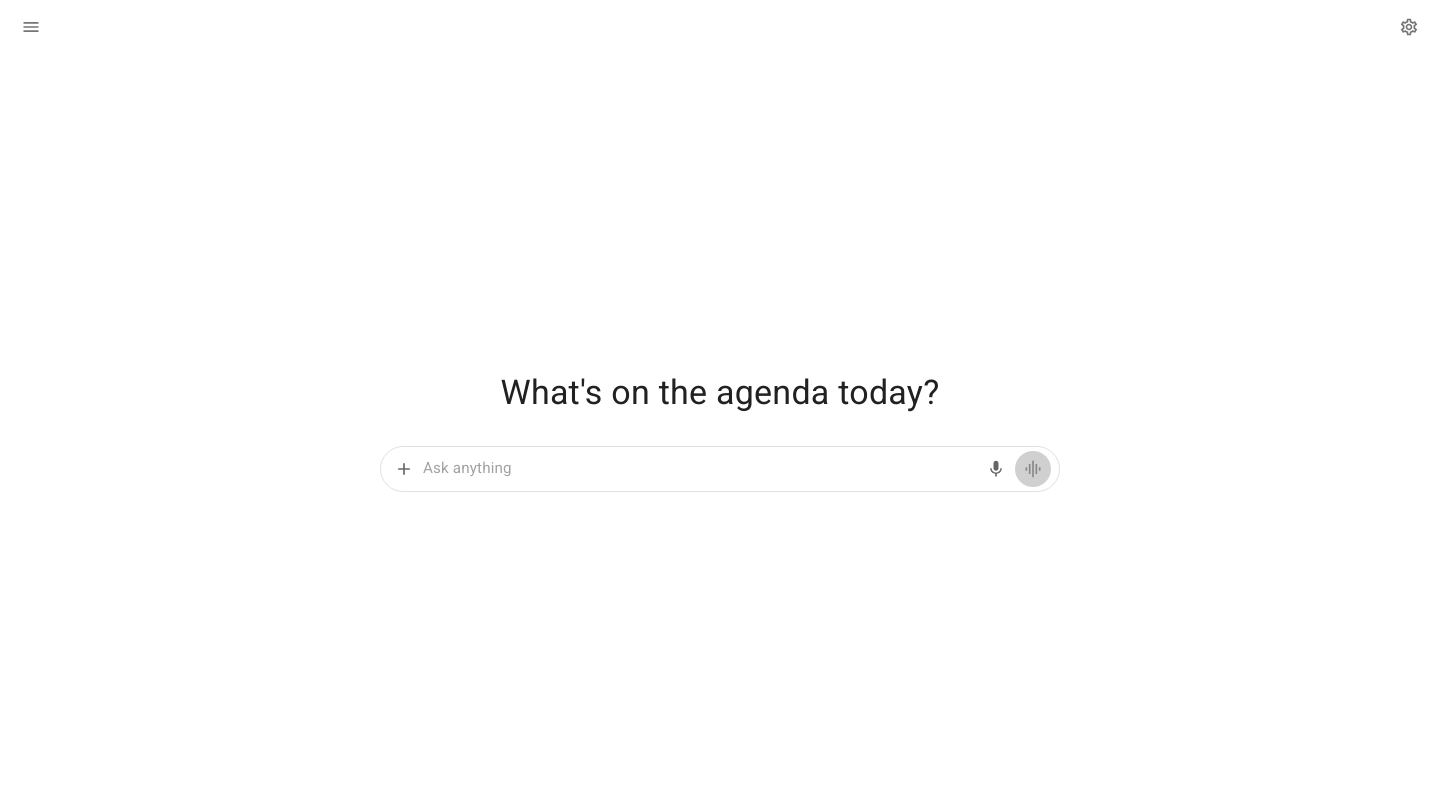
Test: ChatShell › closes the sidebar on a narrow window when a conversation is chosen
This screenshot has width=1440, height=810.
Click the button named "Open conversations" at (31, 27), box [16,12,46,42]
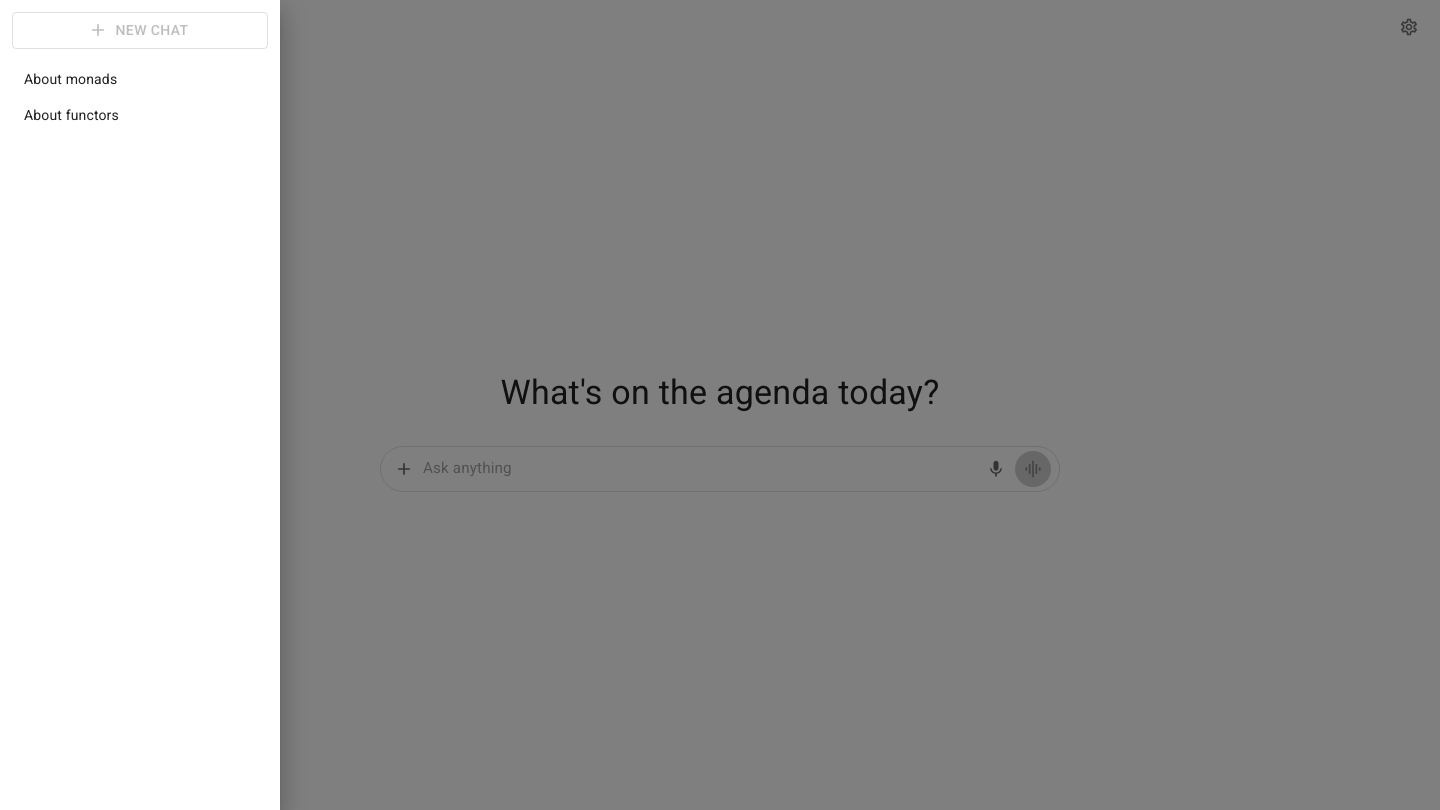
Click the button "About monads" at (71, 78), box [24,70,117,86]
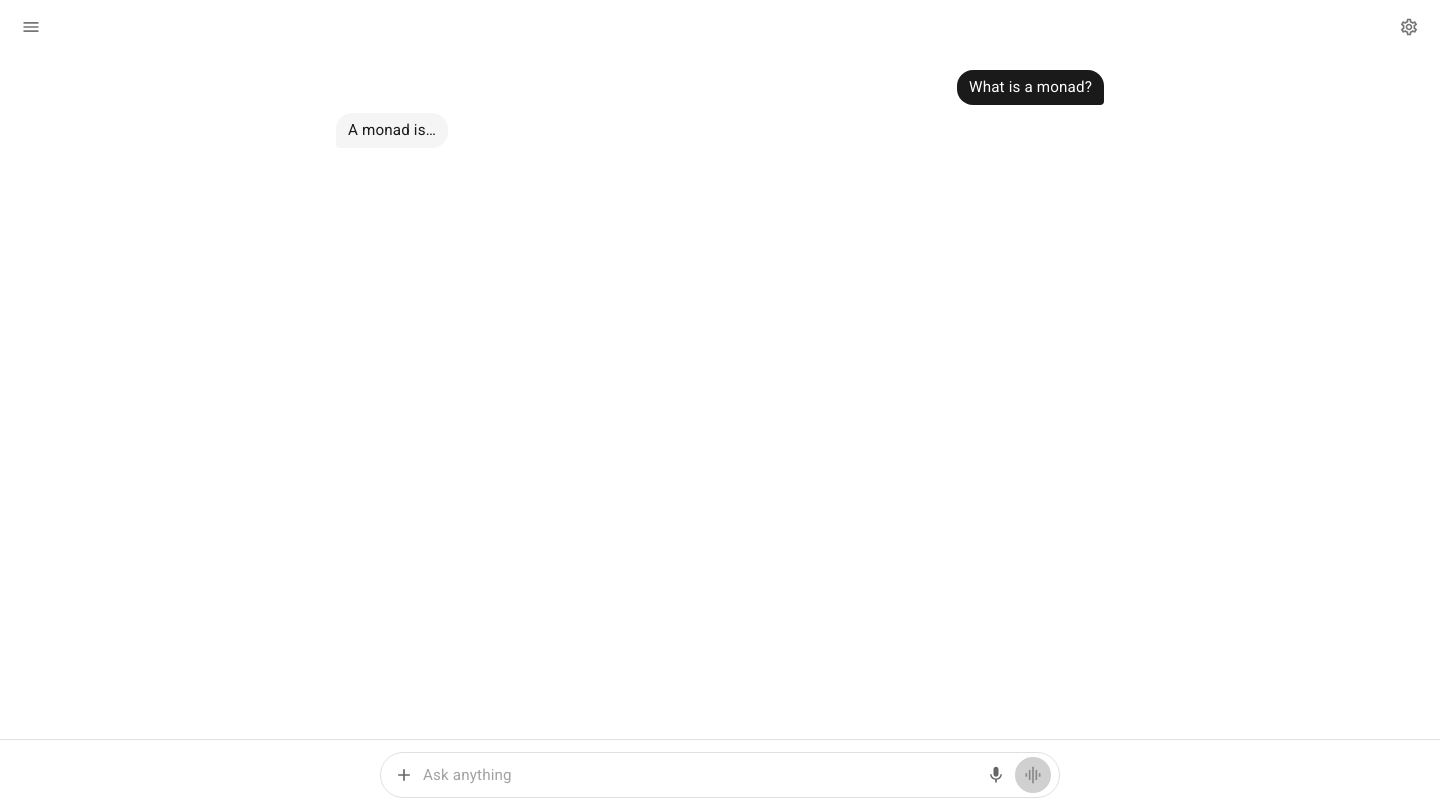
Now the text "What is a monad?" is shown, box [957,70,1104,105]
Now the button "Conversations" is gone
